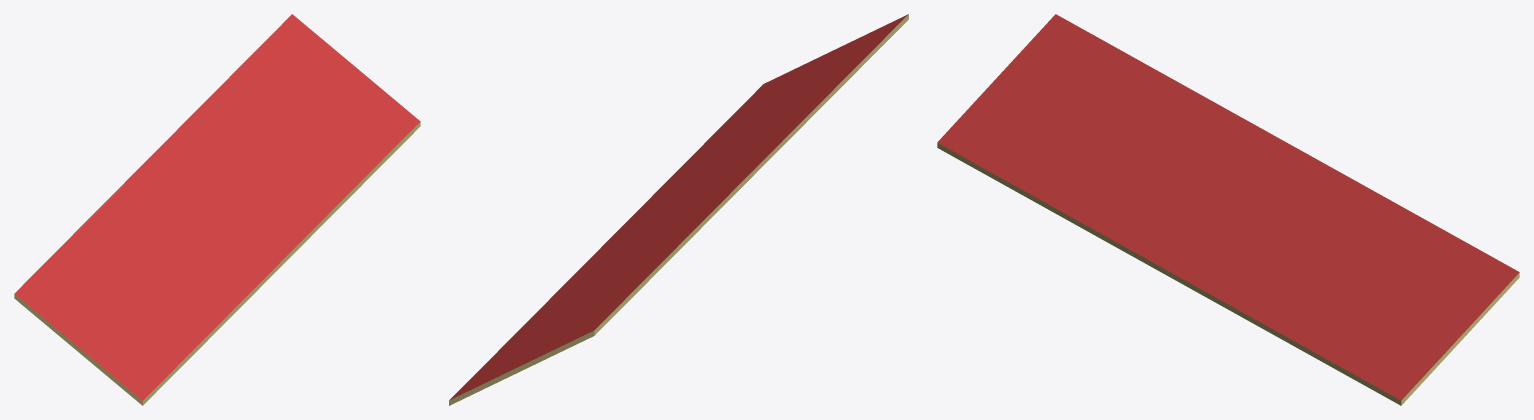
The picture shows the model from 3 angles, left to right: view 1: azimuth 30°, elevation 25°; view 2: azimuth 210°, elevation 25°; view 3: azimuth 270°, elevation 25°; orthographic projection. The views are drawn at different scales.
Bounding box in the file's own units: 12.21 × 10.14 × 1.84.
